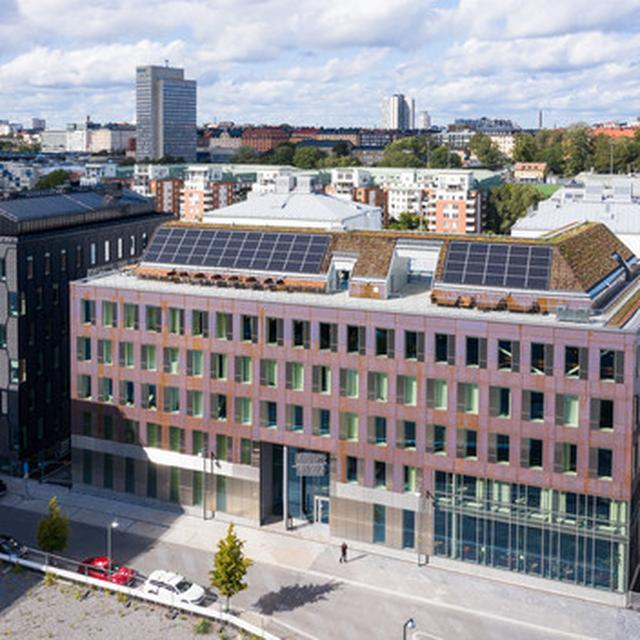building: (72, 201, 640, 598), (0, 176, 171, 468), (44, 153, 496, 234), (202, 120, 546, 162), (131, 46, 205, 174), (381, 91, 424, 132)
